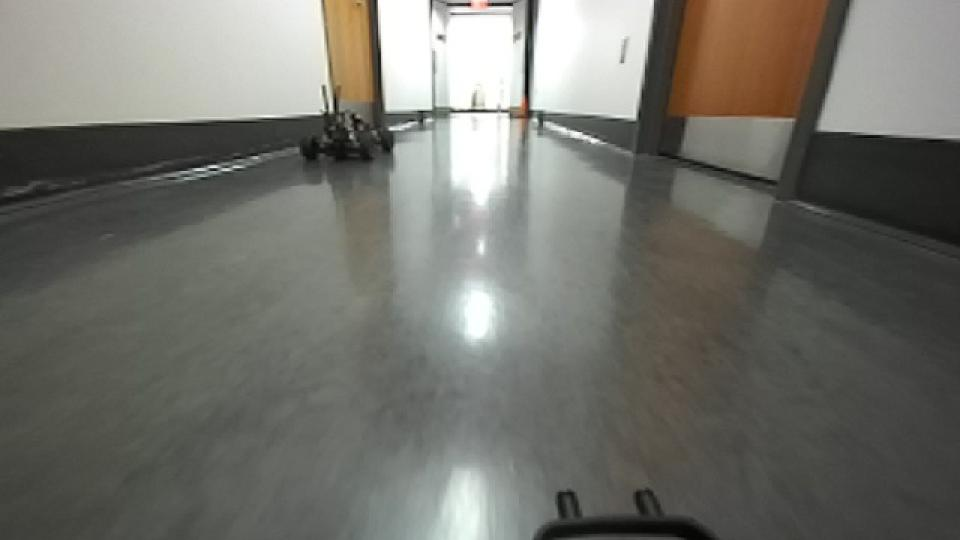car: (528, 483, 720, 539), (295, 81, 387, 167)
